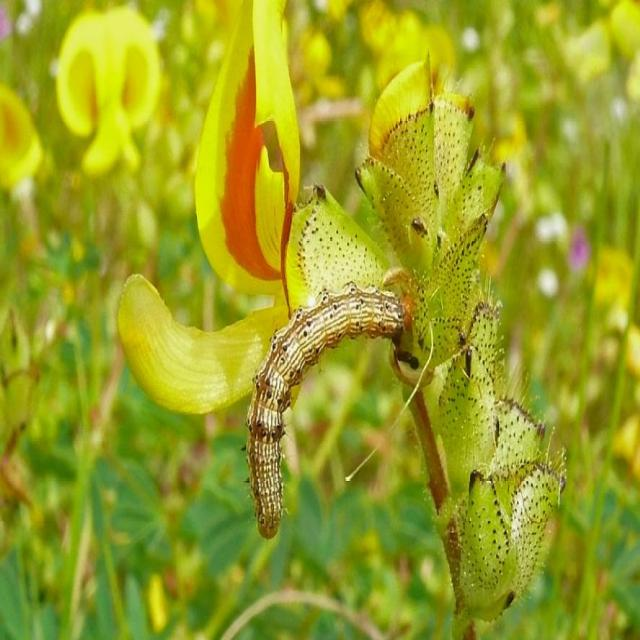cornborer-Larva-: (237, 276, 421, 548)
